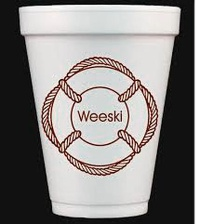paper_cup: (11, 1, 185, 223)
